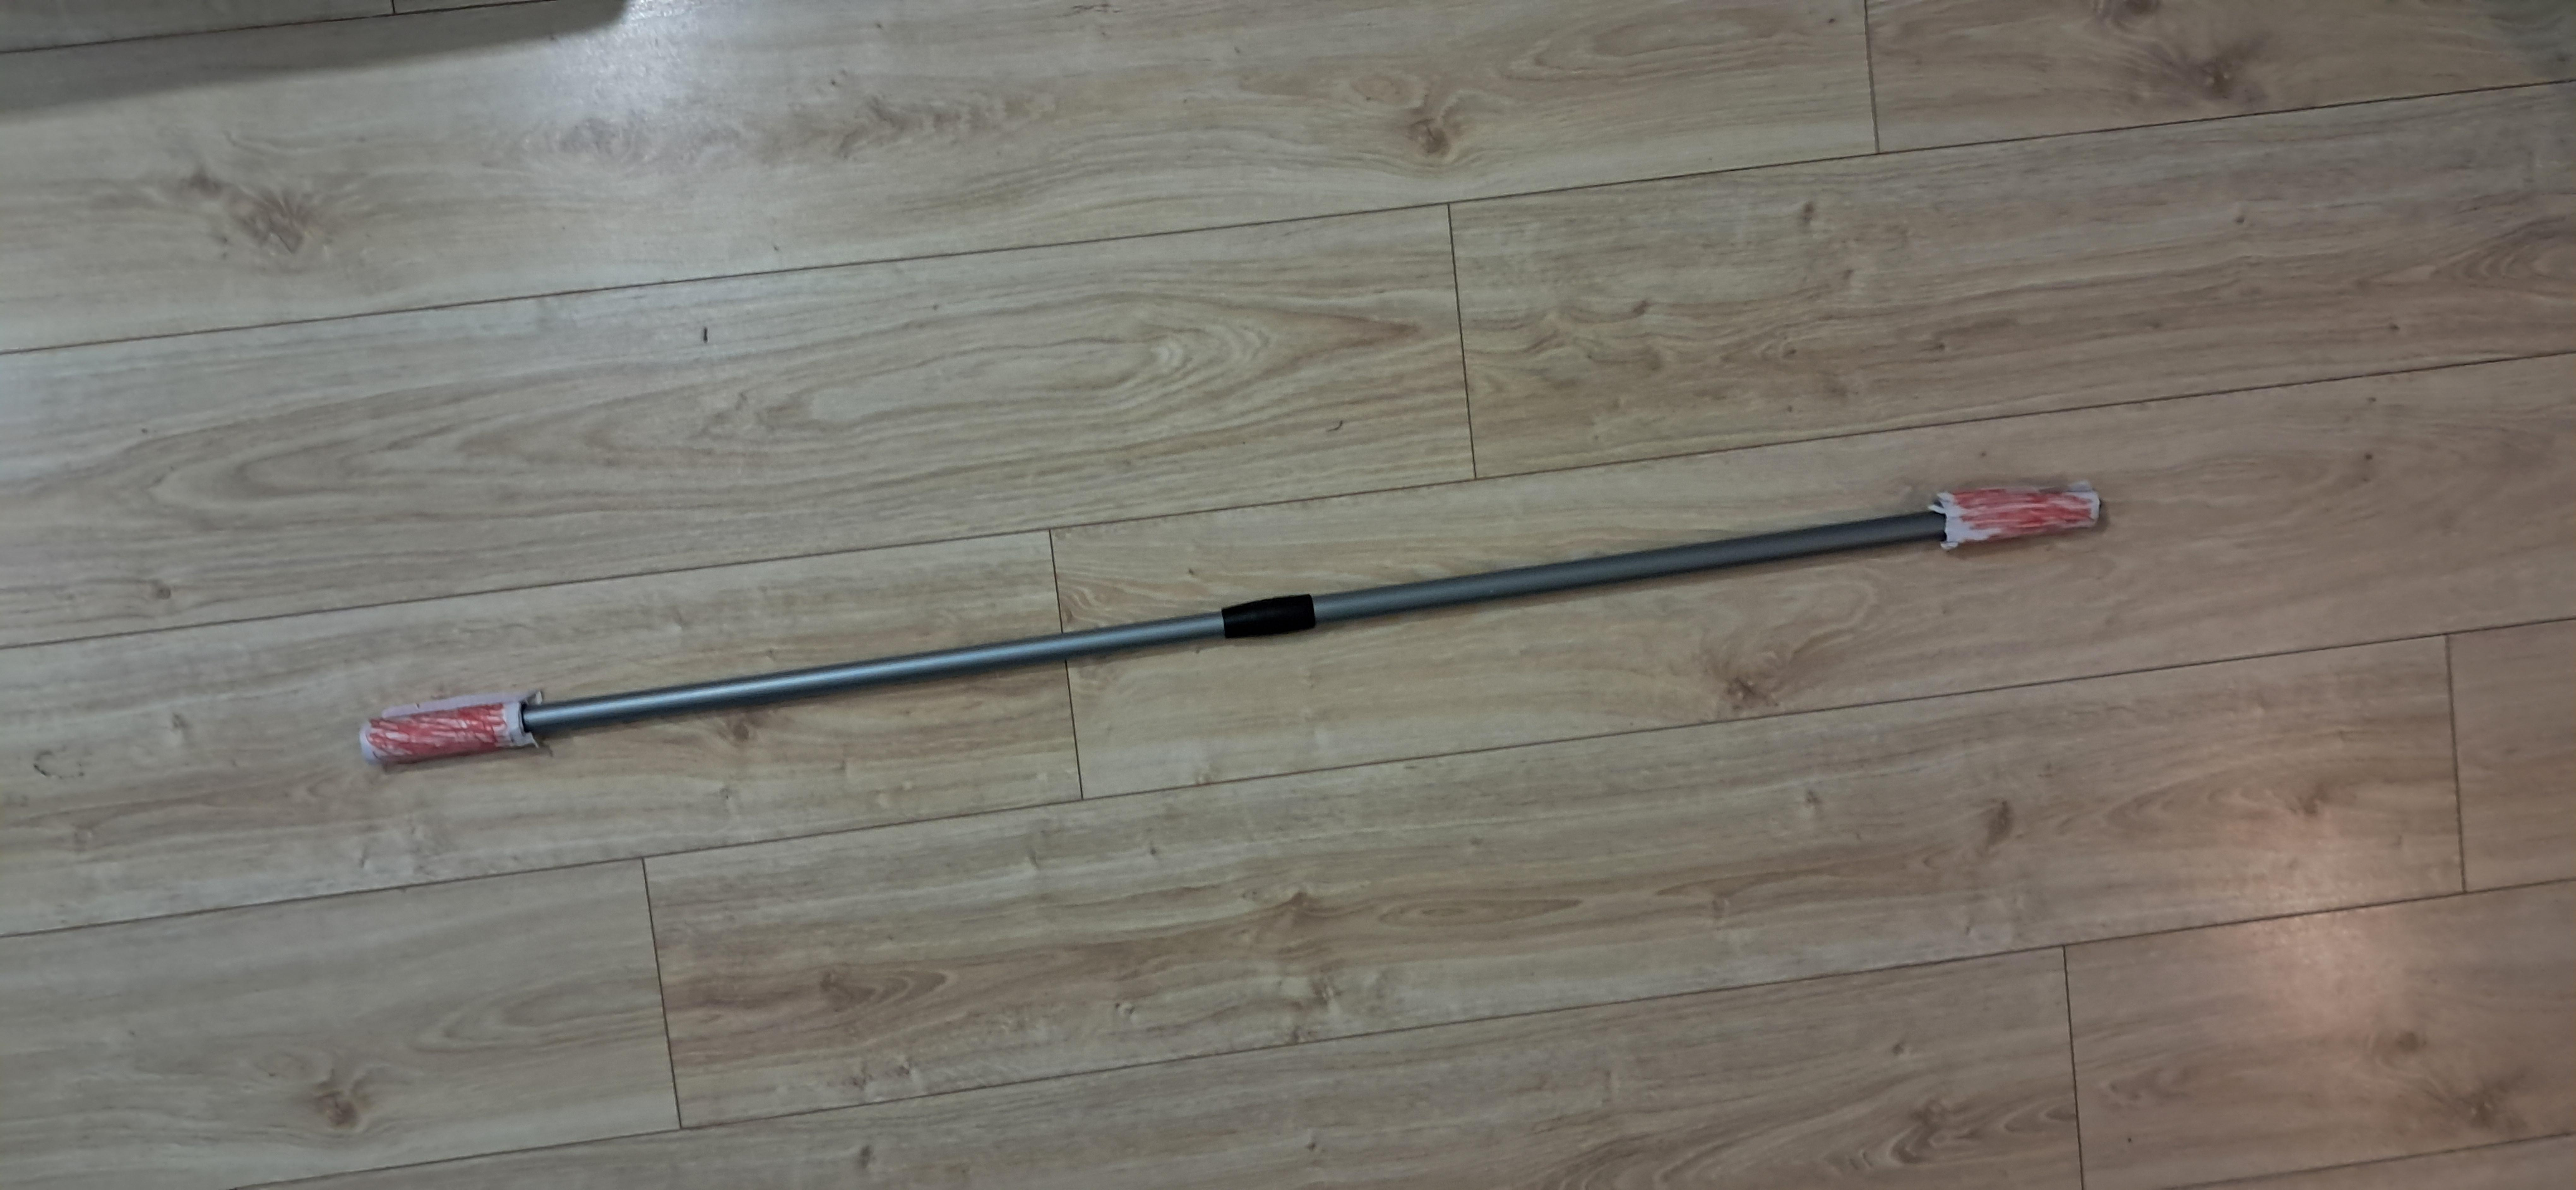broom-handle: (360, 483, 2101, 766)
